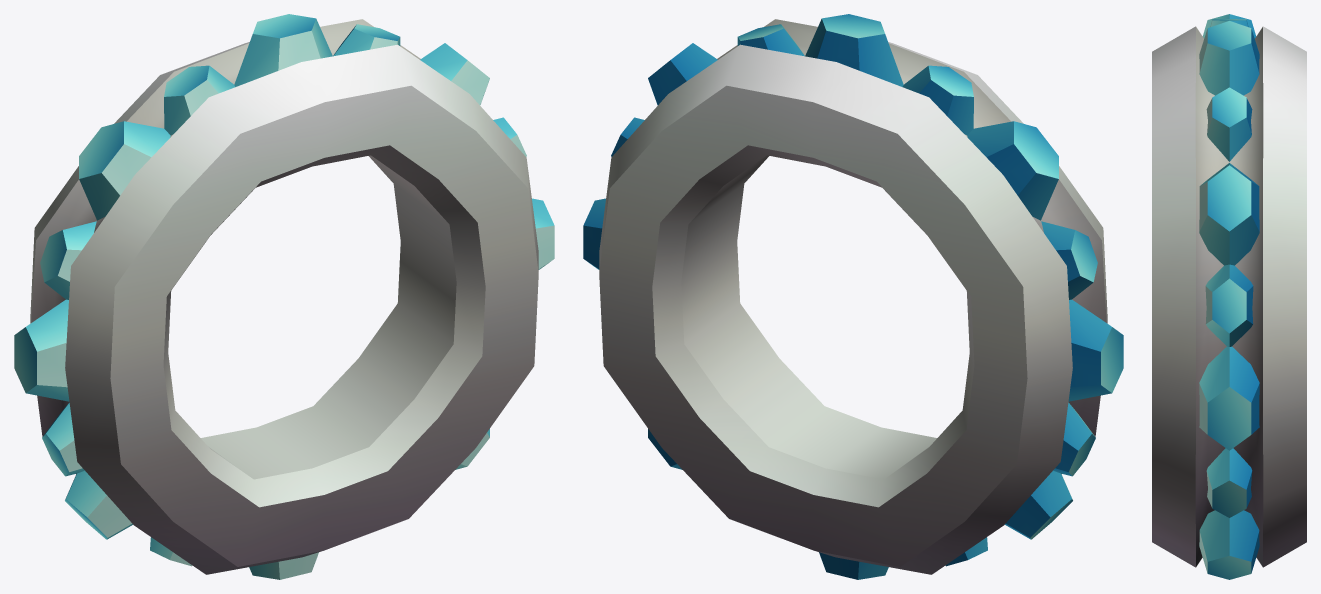
The model's file is Silver_Gem_Ring_03.glb.
The picture shows the model from 3 angles, left to right: view 1: azimuth 30°, elevation 25°; view 2: azimuth 150°, elevation 25°; view 3: azimuth 270°, elevation 25°; orthographic projection. The views are drawn at different scales.
Visible parts, largest first — view 1: Silver_Gem_Ring_03; view 2: Silver_Gem_Ring_03; view 3: Silver_Gem_Ring_03.
Boxes of the visible parts, x1,y1,x2,y2 form: Silver_Gem_Ring_03: (14,14,554,579); Silver_Gem_Ring_03: (583,14,1123,579); Silver_Gem_Ring_03: (1152,14,1306,579).
Bounding box in the file's own units: 0.5503 × 0.5503 × 0.1478.
Materials: 1 (1 with a texture image).
